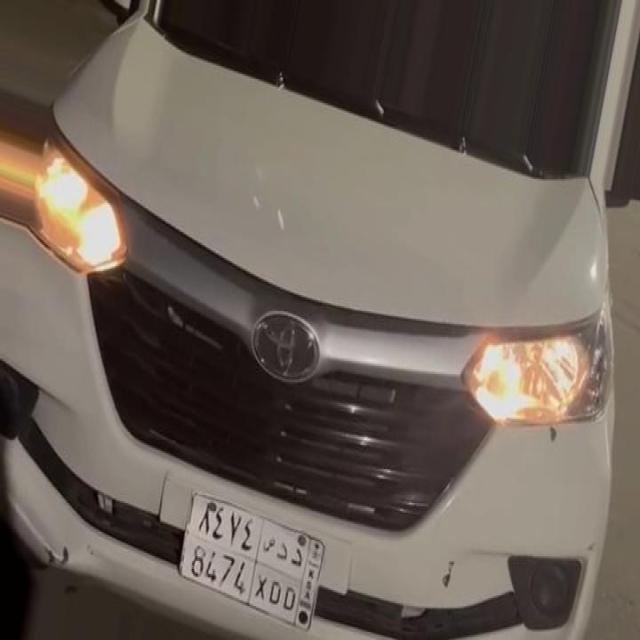Car-plate: (160, 472, 330, 640)
